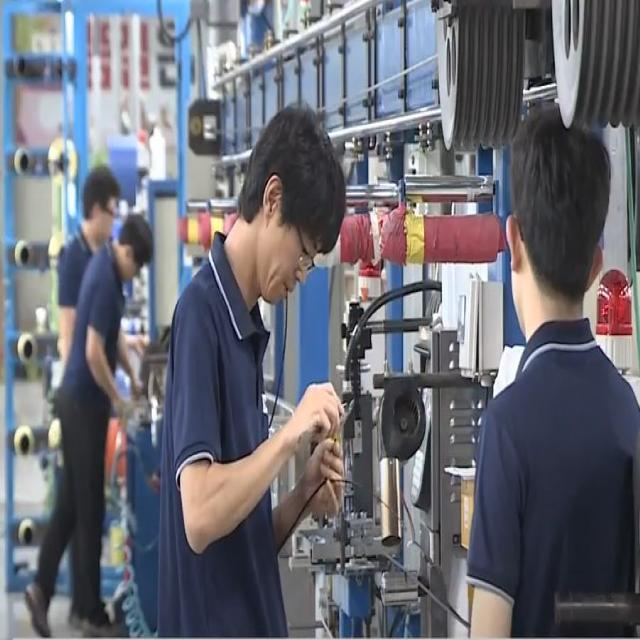bare_hand: (300, 438, 355, 524), (289, 376, 348, 444)
